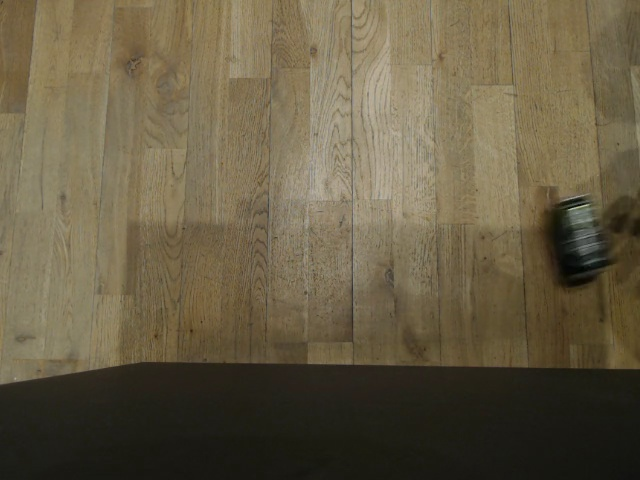beer: (551, 184, 612, 285)
